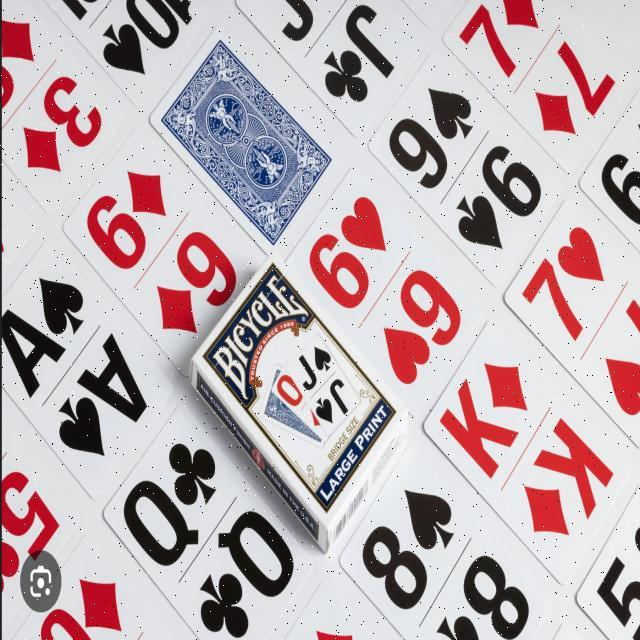Card-10: (44, 0, 210, 108), (11, 535, 159, 639)
Card-3: (1, 0, 126, 213)
Card-5: (2, 410, 79, 631), (580, 483, 640, 638)
Card-6: (286, 165, 484, 414), (64, 129, 264, 373), (578, 88, 639, 253)
Card-7: (504, 200, 639, 446), (443, 0, 633, 173)
Card-8: (339, 445, 550, 639)
Card-9: (368, 49, 561, 288)
Card-A: (1, 241, 172, 498)
Card-J: (237, 0, 424, 133), (286, 335, 360, 436)
Card-K: (423, 317, 630, 586)
Card-Q: (103, 402, 313, 639), (271, 345, 328, 442)
